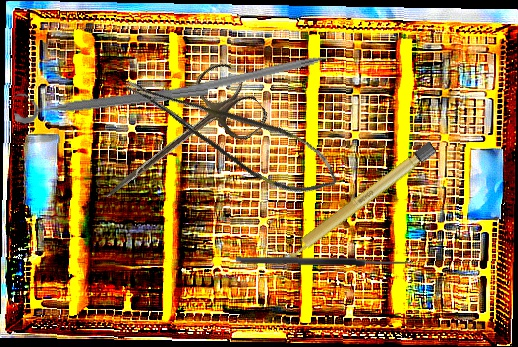Fixation Ring: (11, 68, 210, 125)
Hook Surgical: (235, 247, 419, 268)
Iris Scissors: (83, 56, 273, 232)
Micro Scissor: (118, 41, 350, 218)
Pusher: (147, 47, 355, 107)
Scalpel Handle: (278, 140, 438, 266)
